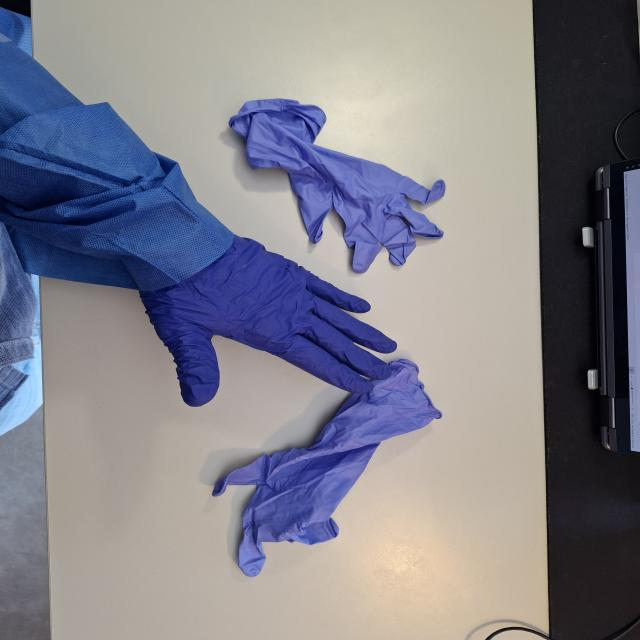glove_on: (130, 233, 399, 409)
